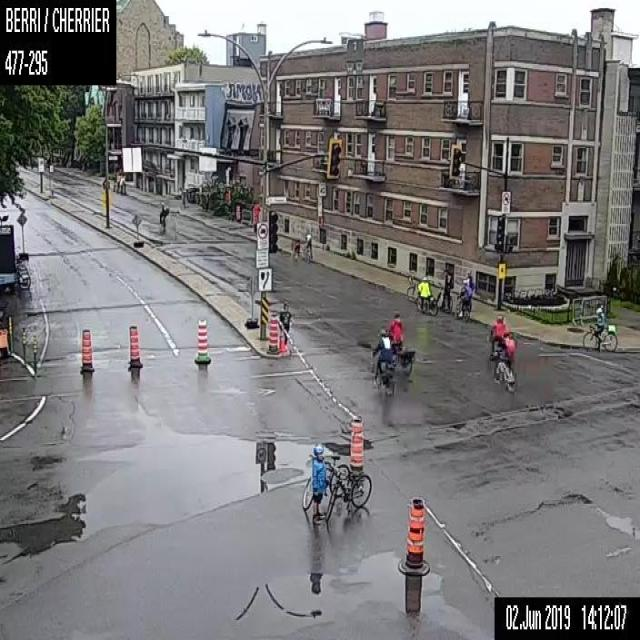construction: (398, 495, 429, 576), (0, 212, 17, 358), (348, 416, 363, 469), (126, 324, 143, 368), (194, 319, 210, 364), (245, 274, 258, 329), (78, 329, 94, 372), (265, 316, 280, 355), (130, 212, 142, 247), (22, 325, 26, 363), (32, 337, 36, 372)
cyclist: (388, 310, 414, 375), (582, 306, 617, 352), (372, 326, 396, 393), (492, 330, 516, 392), (488, 314, 509, 360), (415, 276, 437, 315), (452, 278, 471, 320), (436, 268, 452, 312), (158, 202, 168, 234), (304, 232, 312, 263), (290, 238, 299, 263)
pedestrian: (309, 444, 324, 525), (277, 300, 289, 351), (464, 269, 474, 291), (112, 170, 120, 191), (120, 173, 126, 193)
